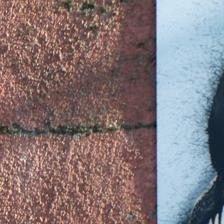Crack: (1, 58, 159, 86)
